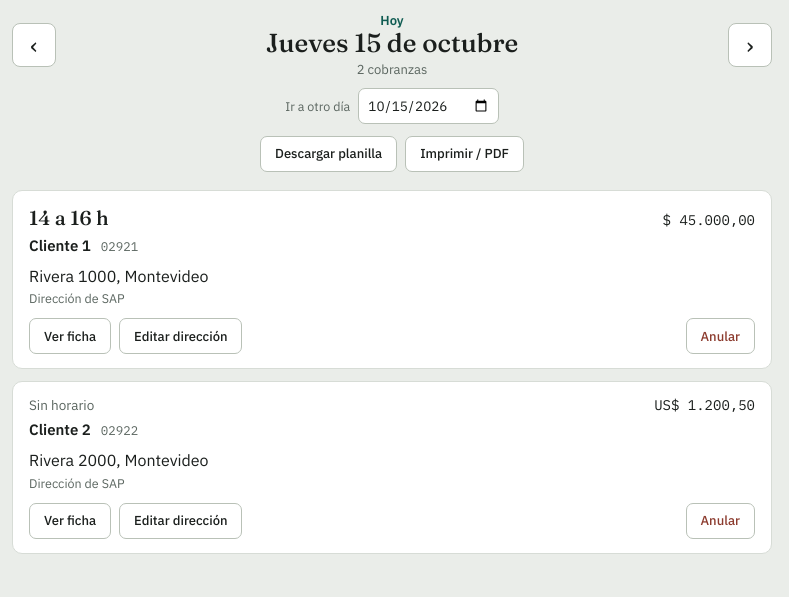
Test case: Cobranza programada: exportar › con el flag › si el registro falla no imprime y muestra el error
Check: the element "Cliente 1" is shown, box [12,190,772,369]
Step 1. Click the button "Imprimir / PDF" → (464, 154), box [405,136,524,172]
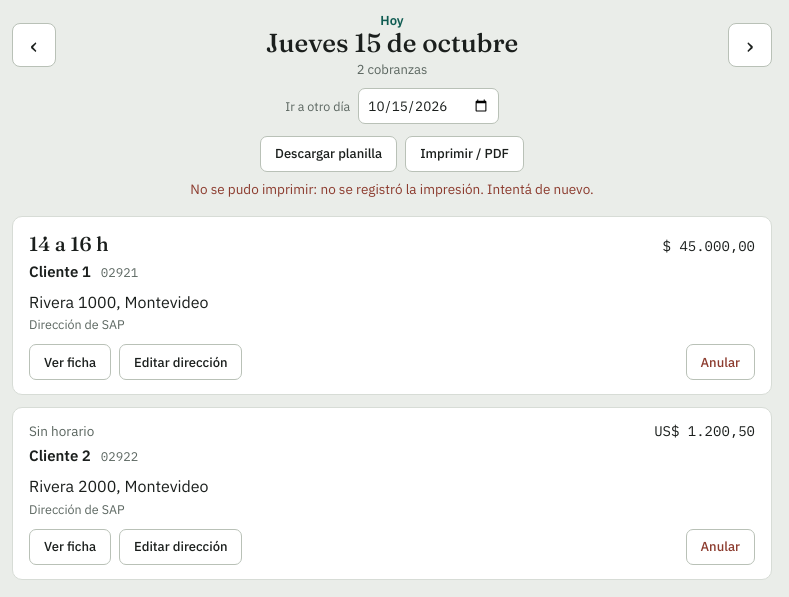
Check: the message shows "No se pudo imprimir", box [190,180,594,198]
